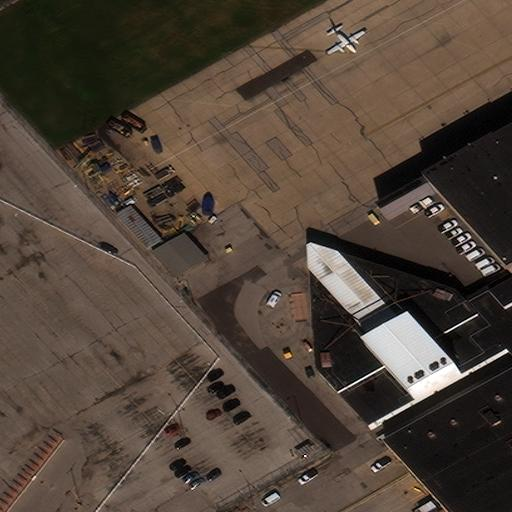Small Civil Transport: (328, 27, 365, 54)
